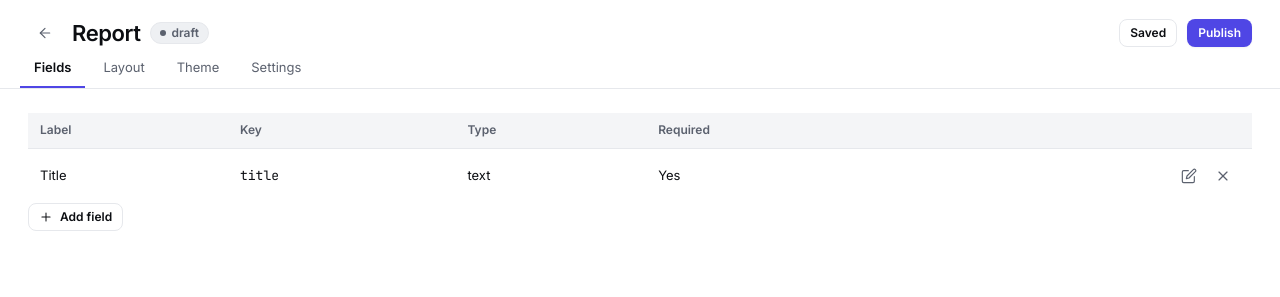
Test: FormEditor › loads a form and switches tabs
Expected: the heading "Report" is shown, [72, 16, 140, 50]
Click the tab "Layout".
click(124, 69)  # box [89, 50, 159, 88]
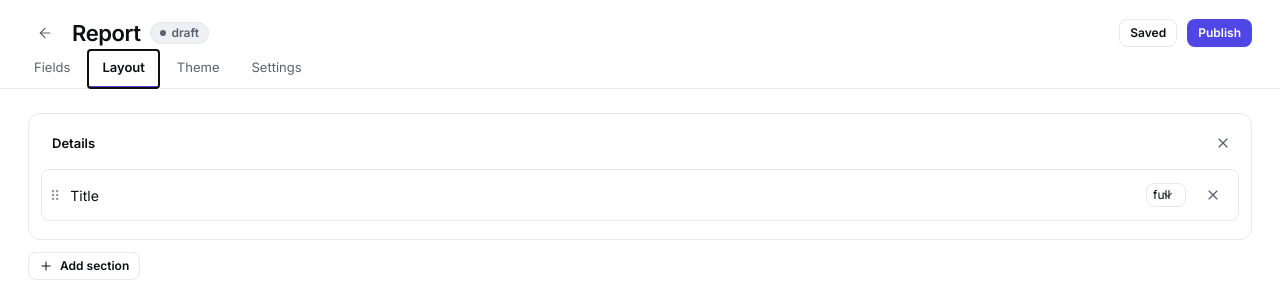
Result: the field showing "Details" is shown at [41, 126, 1198, 161]
